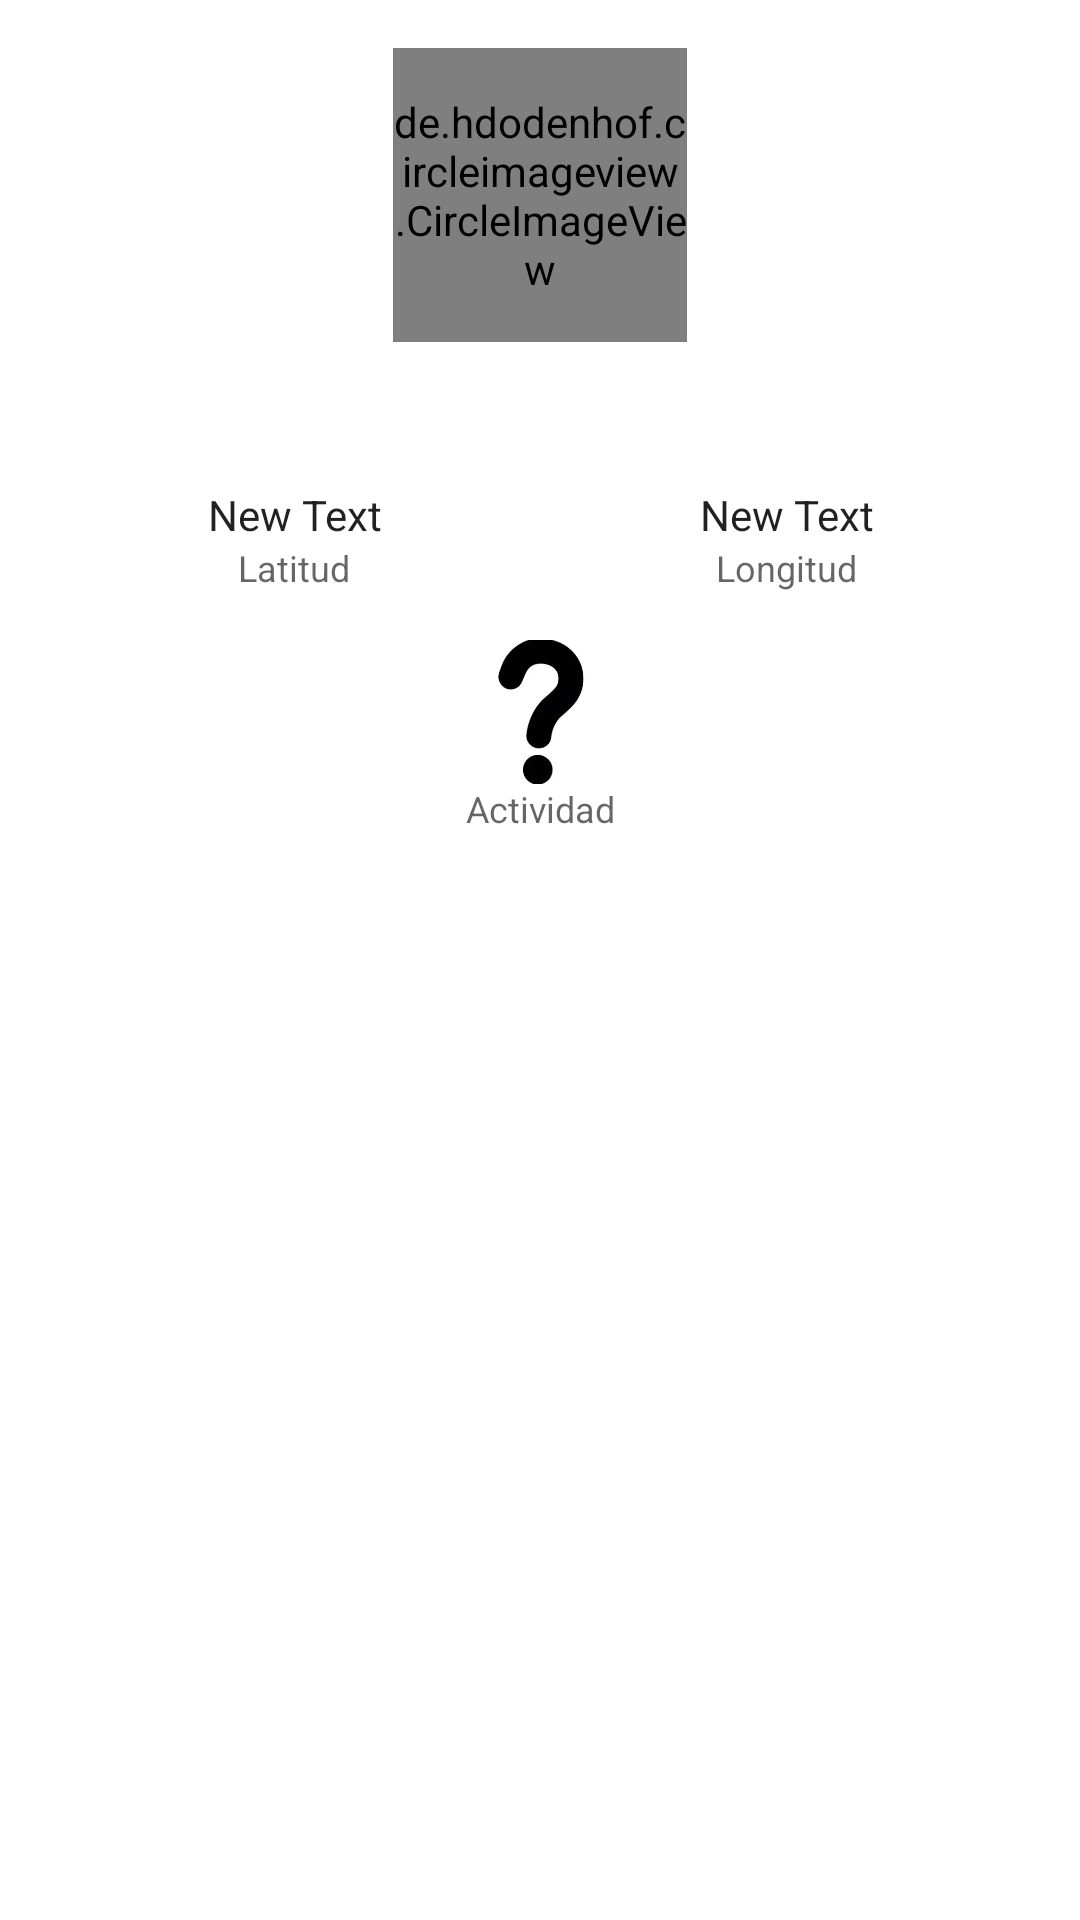

Screen size 1080px x 1920px. Icon name, then its center in pixels as [x,y]:
question: [541,712]
